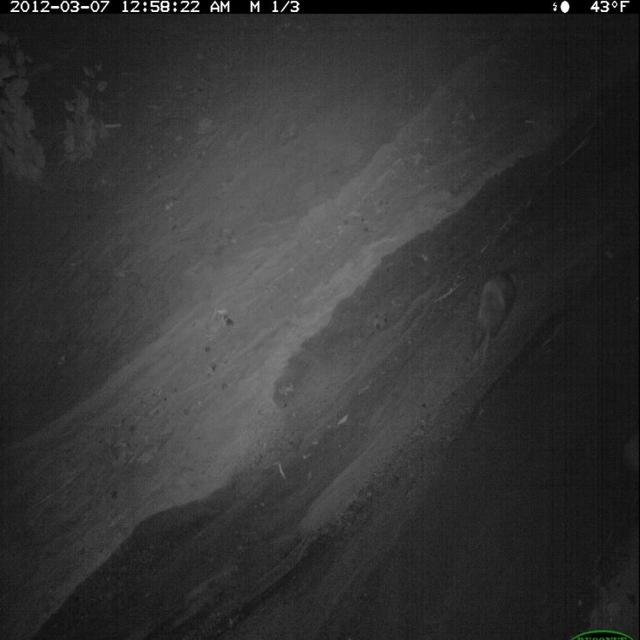opossum: (462, 262, 523, 377)
